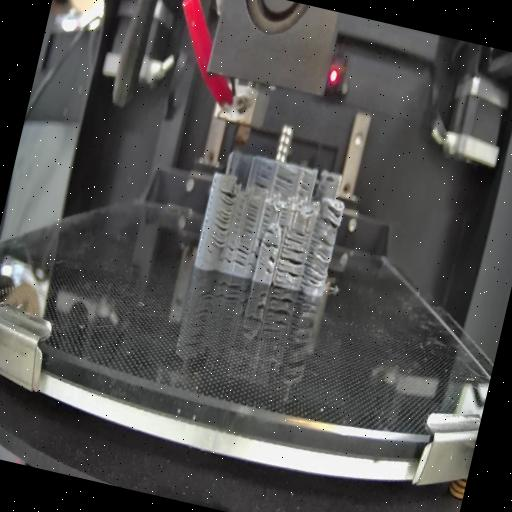cracks: (300, 234, 337, 292), (208, 190, 236, 249), (274, 246, 306, 289), (318, 203, 345, 231), (241, 202, 260, 238), (252, 163, 274, 192), (247, 237, 262, 274), (232, 244, 250, 270), (284, 231, 306, 250), (274, 173, 294, 191), (264, 255, 277, 277), (224, 242, 236, 265), (261, 238, 280, 252), (261, 207, 274, 226), (296, 180, 310, 196), (278, 210, 288, 230), (265, 226, 276, 236)
